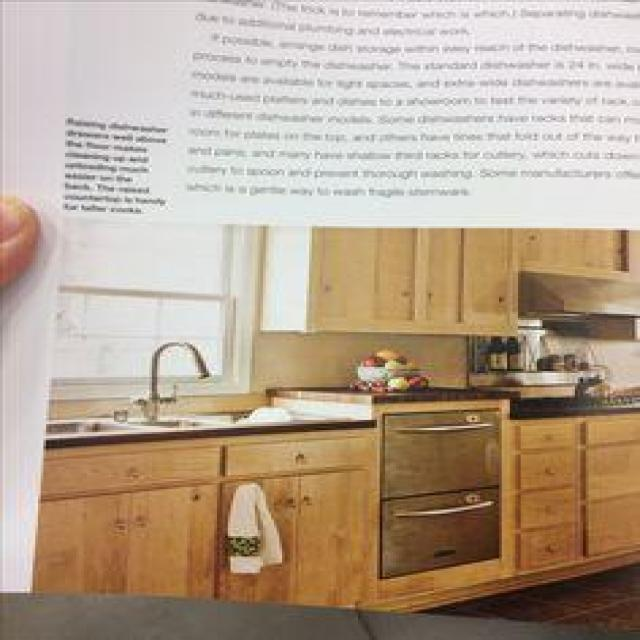dishwasher: (28, 423, 369, 638)
